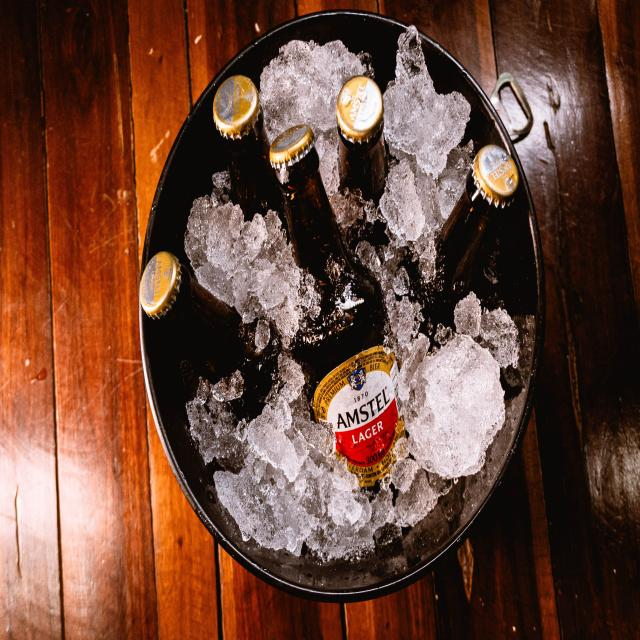Bottle: (270, 125, 404, 486), (140, 252, 278, 398), (438, 145, 518, 309), (213, 76, 281, 220), (337, 76, 385, 201)
